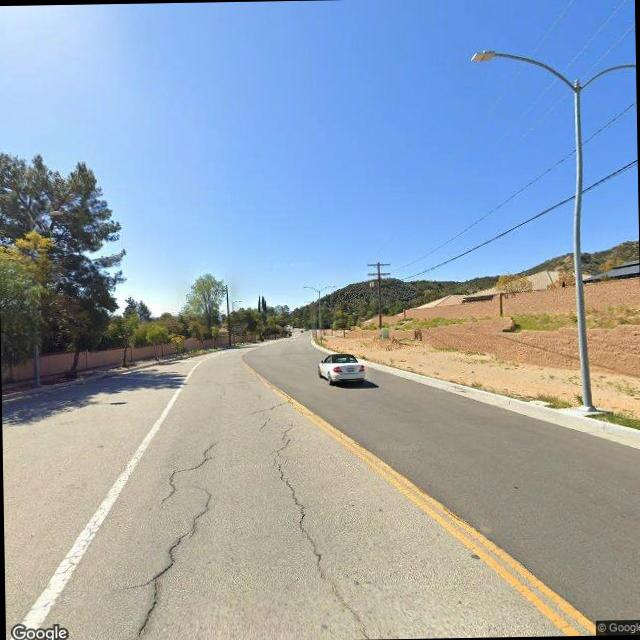pothole: (262, 413, 382, 636), (112, 428, 220, 638)
